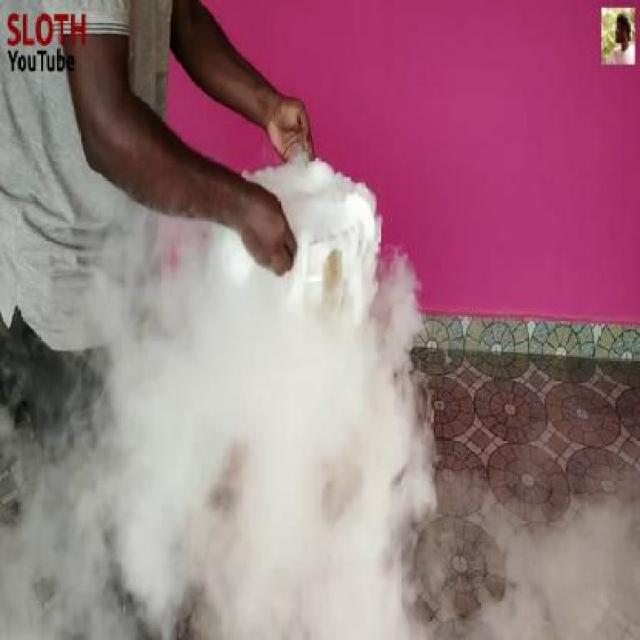smoke: (116, 137, 435, 631)
